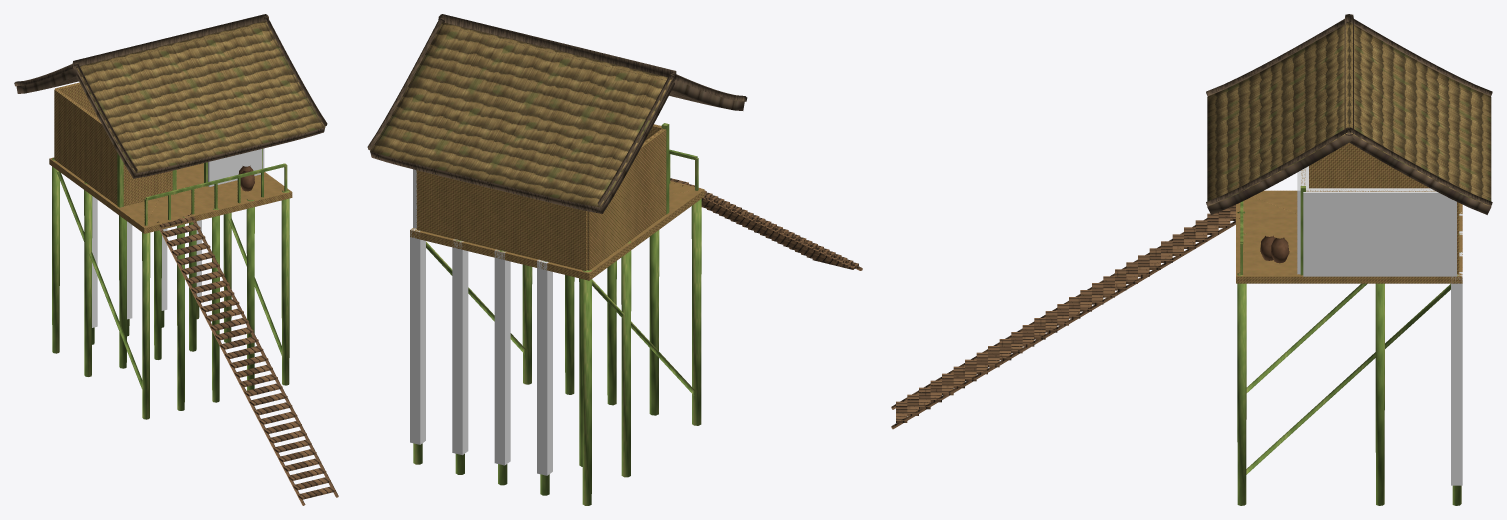
Rendered from forest_watchpost.glb.
3 renders of one model, left to right at view 1: azimuth 30°, elevation 25°; view 2: azimuth 150°, elevation 25°; view 3: azimuth 270°, elevation 25°, orthographic. The views are drawn at different scales.
Visible parts, largest first — view 1: Thatch, Stilts, Stair, Walls, Floor, ThatchRidge, Frame, Front-convcolonly.001, Stilt-convcolonly.001, Stilt-convcolonly.002, Stilt-convcolonly.003; view 2: Thatch, Walls, Stilts, ThatchRidge, Stilt-convcolonly.002, Stilt-convcolonly.003, Floor, Stilt-convcolonly.001, Stilt-convcolonly.004, Stair, Frame; view 3: Thatch, Side-convcolonly.001, Stair, Stilts, Floor, ThatchRidge, Walls, Stilt-convcolonly.004, Jars.
Part boxes in pixels (bbox=[...]): Thatch: bbox=[16, 21, 325, 178]; Stilts: bbox=[52, 158, 289, 419]; Stair: bbox=[157, 213, 338, 505]; Walls: bbox=[54, 82, 172, 206]; Floor: bbox=[49, 157, 292, 233]; ThatchRidge: bbox=[14, 14, 327, 172]; Frame: bbox=[117, 148, 287, 225]; Front-convcolonly.001: bbox=[208, 149, 262, 186]; Stilt-convcolonly.001: bbox=[92, 196, 97, 327]; Stilt-convcolonly.002: bbox=[127, 221, 132, 319]; Stilt-convcolonly.003: bbox=[161, 228, 167, 310]; Thatch: bbox=[370, 22, 744, 213]; Walls: bbox=[416, 124, 666, 270]; Stilts: bbox=[413, 199, 701, 505]; ThatchRidge: bbox=[367, 14, 747, 206]; Stilt-convcolonly.002: bbox=[494, 249, 510, 465]; Stilt-convcolonly.003: bbox=[452, 239, 468, 455]; Floor: bbox=[410, 181, 704, 280]; Stilt-convcolonly.001: bbox=[537, 259, 552, 475]; Stilt-convcolonly.004: bbox=[410, 228, 425, 444]; Stair: bbox=[670, 178, 862, 270]; Frame: bbox=[661, 123, 698, 214]; Thatch: bbox=[1207, 22, 1491, 214]; Side-convcolonly.001: bbox=[1303, 188, 1456, 276]; Stair: bbox=[891, 204, 1239, 429]; Stilts: bbox=[1237, 211, 1461, 505]; Floor: bbox=[1236, 190, 1462, 283]; ThatchRidge: bbox=[1206, 14, 1492, 206]; Walls: bbox=[1301, 142, 1459, 274]; Stilt-convcolonly.004: bbox=[1451, 272, 1462, 485]; Jars: bbox=[1260, 235, 1289, 263].
Size of what is drawn, in the model's own units: 6.93 by 11.3 by 15.65.
6 materials, 6 textured.
